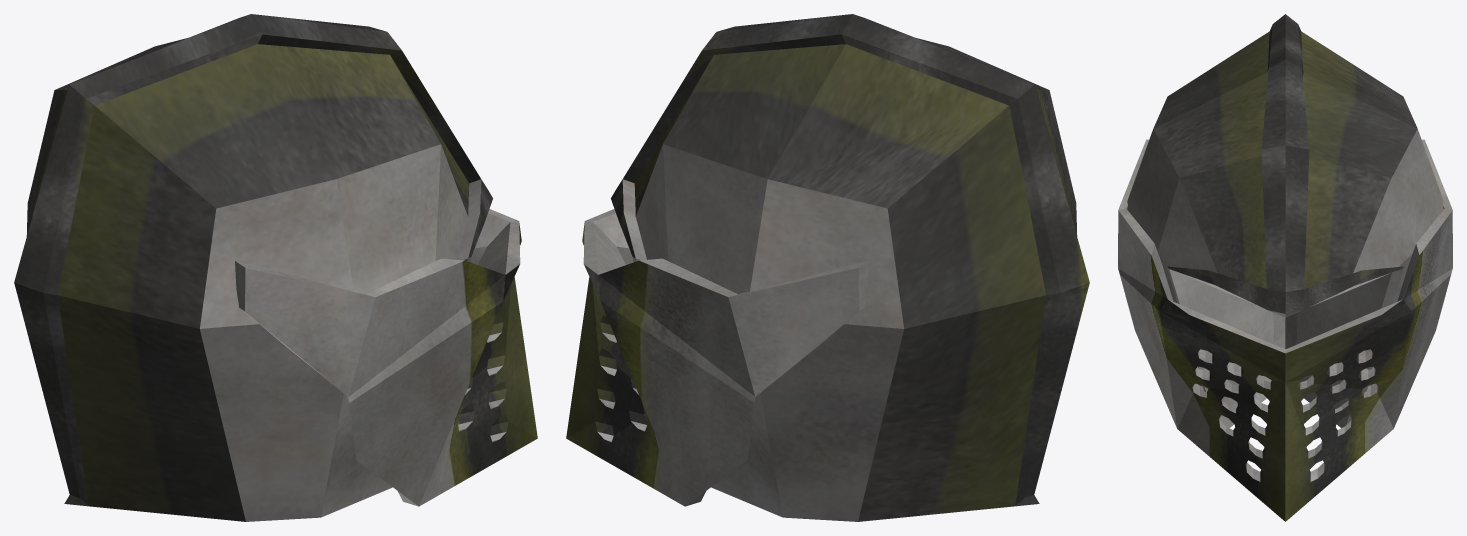
File: helmet_design_test.fbx
The picture shows the model from 3 angles, left to right: view 1: azimuth 30°, elevation 25°; view 2: azimuth 150°, elevation 25°; view 3: azimuth 270°, elevation 25°; orthographic projection. The views are drawn at different scales.
Parts seen in each view (by area): view 1: Helmet, Helmet Mast; view 2: Helmet, Helmet Mast; view 3: Helmet, Helmet Mast.
Boxes of the visible parts, <box> form: Helmet: <box>14,14,492,521</box>; Helmet Mast: <box>235,209,537,506</box>; Helmet: <box>611,14,1089,521</box>; Helmet Mast: <box>566,209,868,506</box>; Helmet: <box>1127,14,1443,427</box>; Helmet Mast: <box>1118,139,1452,521</box>.
Size of the model in its own units: 49 by 44.2 by 37.22.
1 material, 1 textured.
